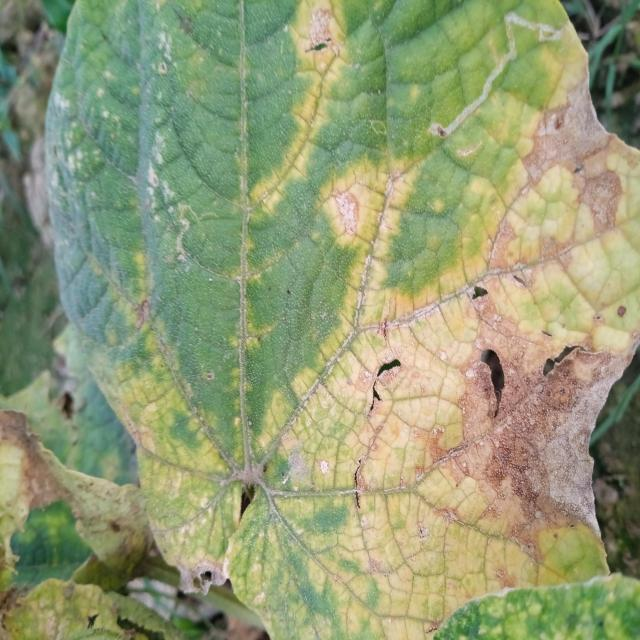cucumber_gummy: (44, 0, 640, 640)
